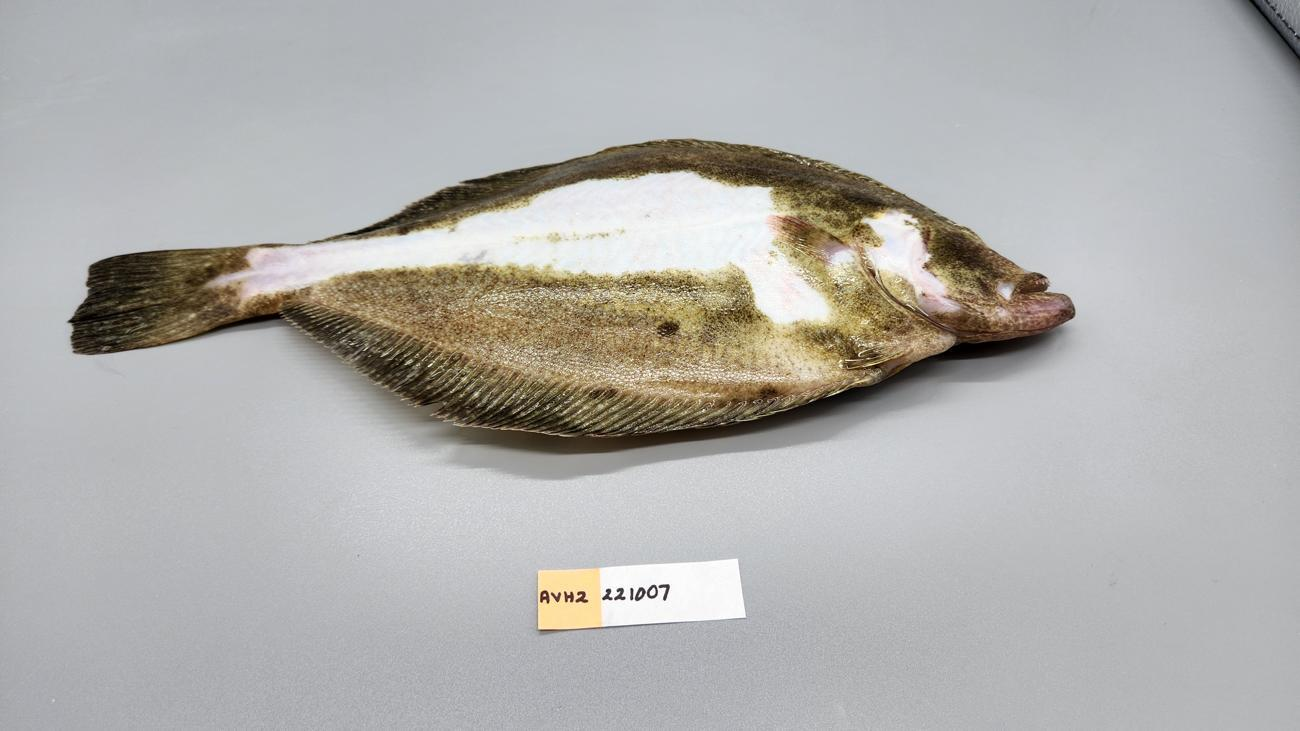VIDYH: (744, 213, 856, 320), (374, 298, 588, 347), (612, 146, 704, 178)
VIFCH: (73, 271, 178, 353)
VIOUY: (69, 139, 1075, 434)
